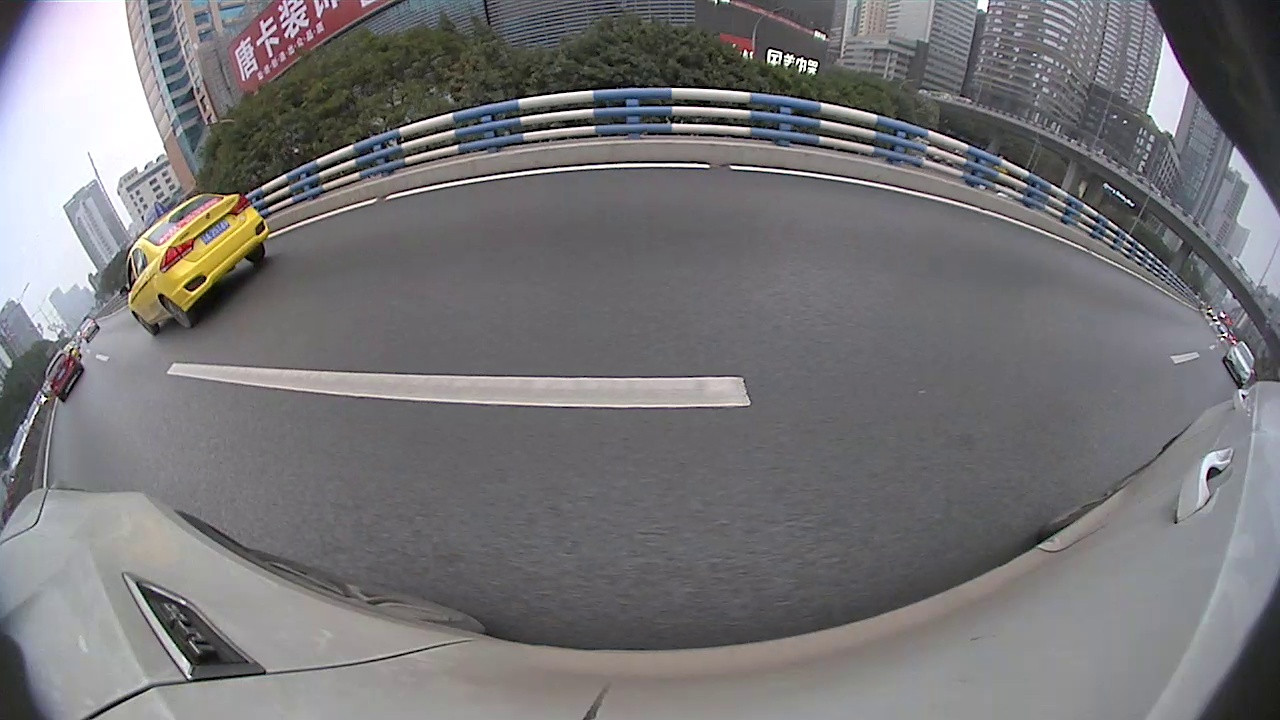car: (119, 190, 269, 337), (46, 351, 88, 401), (1219, 340, 1257, 388)
front: (132, 312, 158, 334)
rear: (159, 296, 190, 327)
